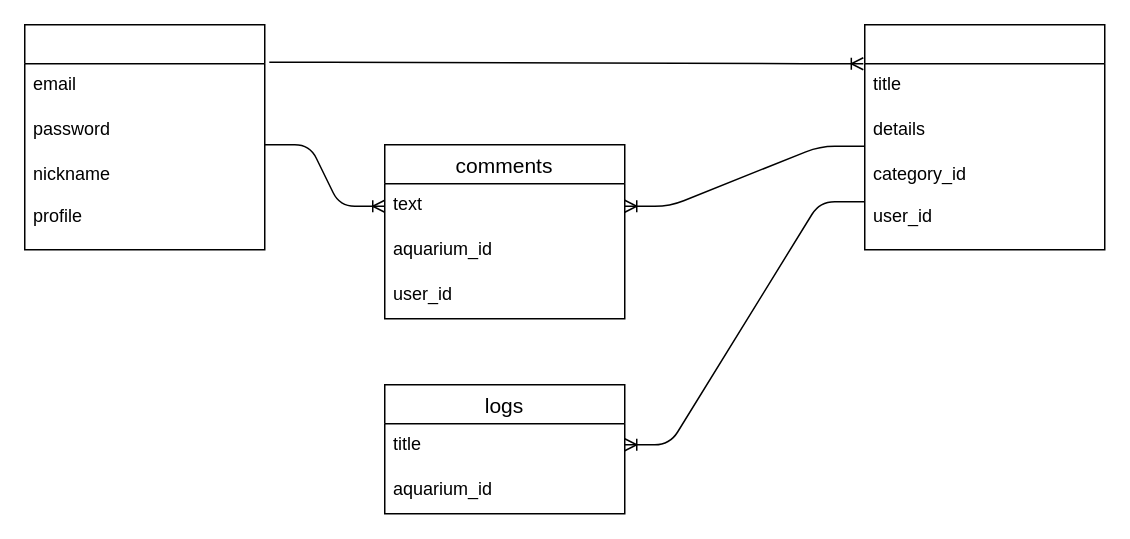
The diagram is 1130 pixels wide and 539 high, and some of its shapes have lost their labels. The shapes that lost their labels are listed below. From the top down, each one's box as (x1, y1, x2, y2) in pixels, then its label:
(23, 23, 265, 250): users
(863, 23, 1105, 250): aquariums
